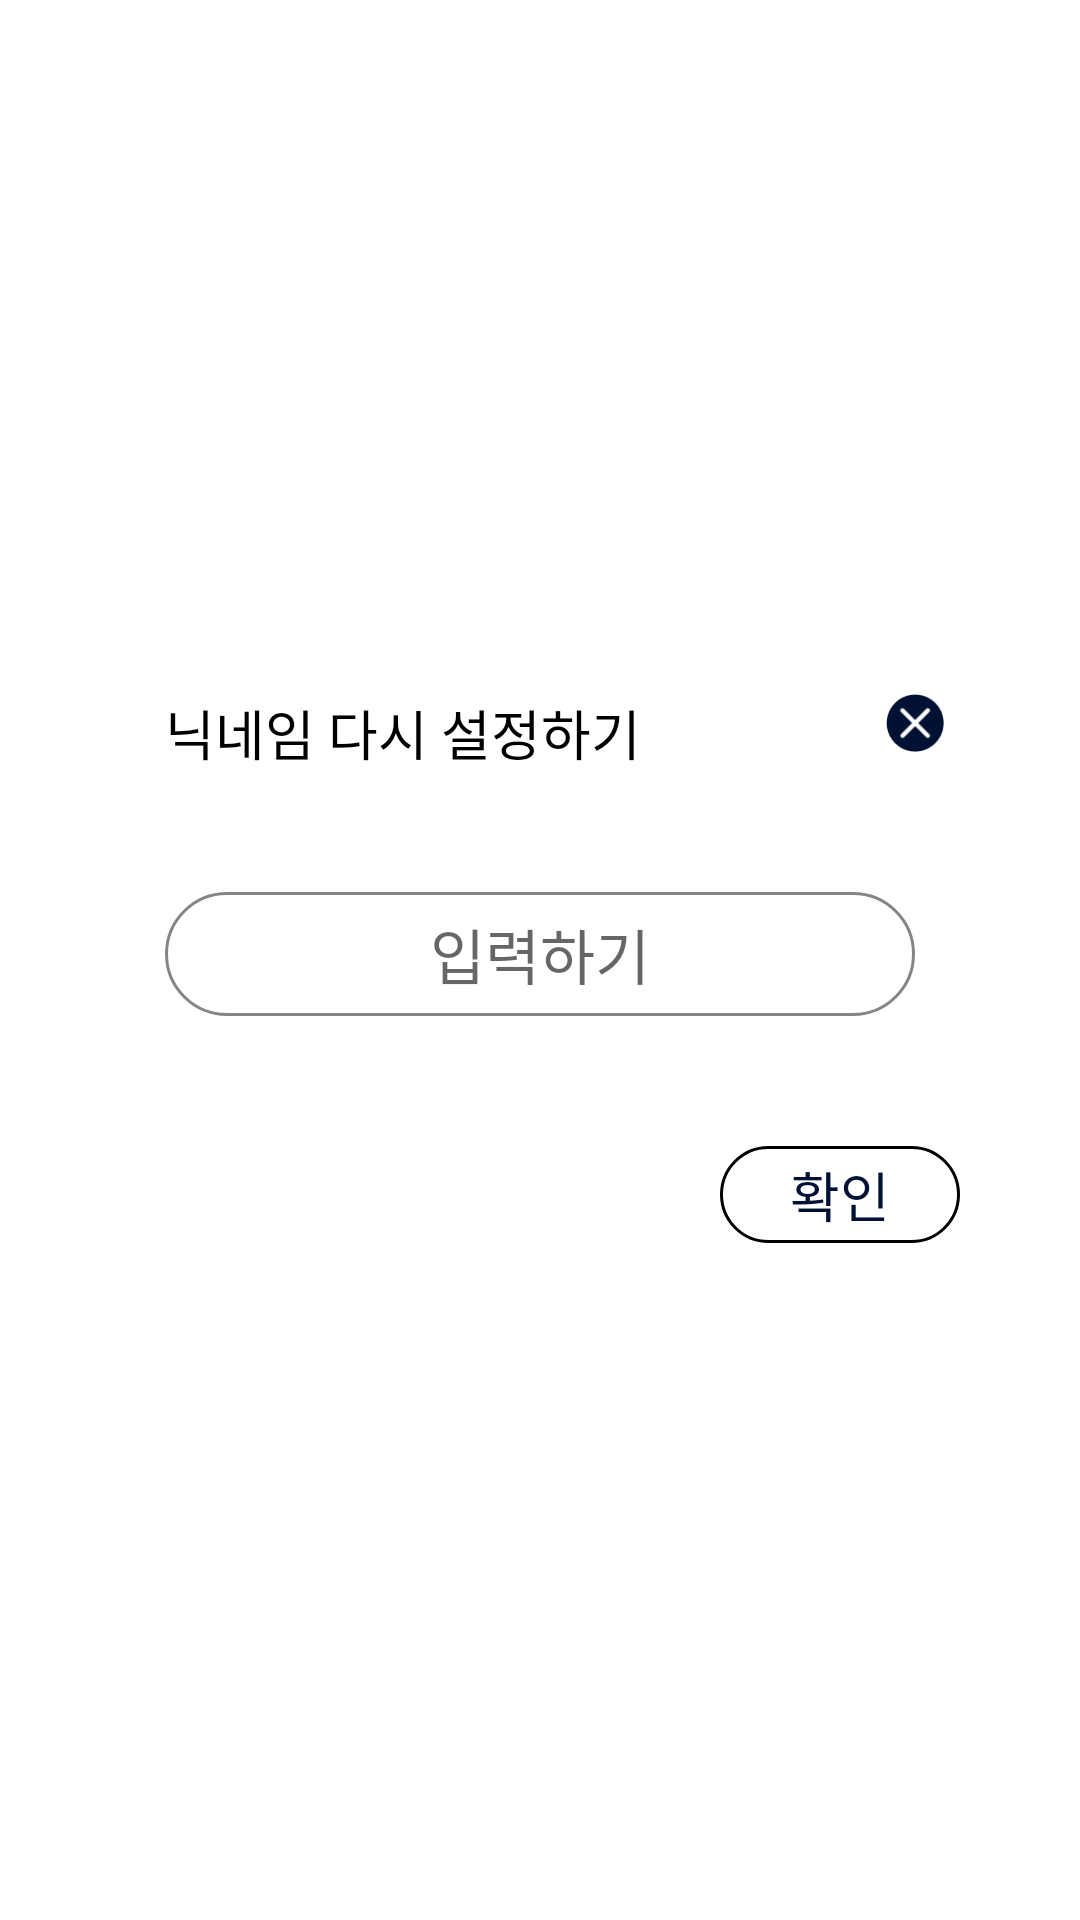

Where icons sit on this 1080px×1920px app screen, as (x1, y1, x2, y2):
filter close: (886, 694, 944, 752)
